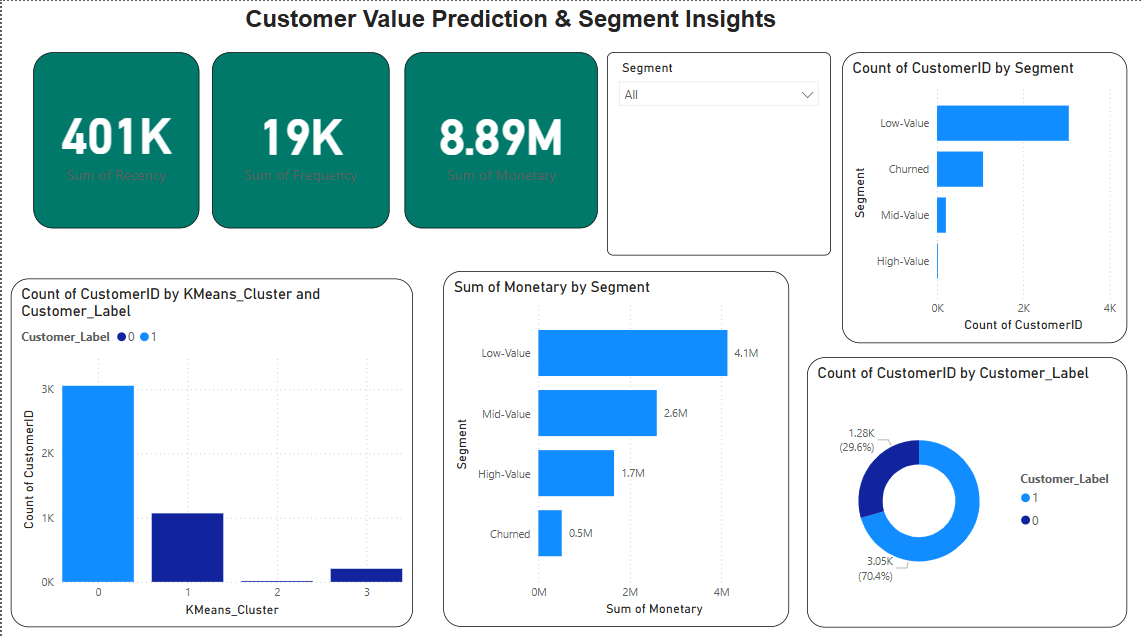

The dashboard page shown, as its layout file describes it:
{"tool":"powerbi","page":{"name":"sgementation and prediction","canvas":[1280,720],"ordinal":1},"visuals":[{"type":"slicer","fields":{"Values":["customer_segmentation_powerbi (2).Segment"]},"box":[679.2,57.6,251.1,227.8],"z":0},{"type":"card","fields":{"Values":["Sum(customer_segmentation_powerbi (2).Recency)"]},"box":[35.7,57.6,186.6,197.6],"z":1000},{"type":"card","fields":{"Values":["Sum(customer_segmentation_powerbi (2).Frequency)"]},"box":[236,57.6,199,197.6],"z":2000},{"type":"card","fields":{"Values":["Sum(customer_segmentation_powerbi (2).Monetary)"]},"box":[451.5,57.6,216.8,197.6],"z":3000},{"type":"donutChart","fields":{"Category":["customer_segmentation_powerbi (2).Customer_Label"],"Y":["CountNonNull(customer_segmentation_powerbi (2).CustomerID)"]},"box":[902.9,399.3,359.5,303.3],"z":4000},{"type":"clusteredBarChart","fields":{"Category":["customer_segmentation_powerbi (2).Segment"],"Y":["CountNonNull(customer_segmentation_powerbi (2).CustomerID)"]},"box":[942.7,57.6,319.7,326.6],"z":5000},{"type":"clusteredBarChart","fields":{"Category":["customer_segmentation_powerbi (2).Segment"],"Y":["Sum(customer_segmentation_powerbi (2).Monetary)"]},"box":[495.4,303.3,388.3,399.3],"z":6000},{"type":"columnChart","fields":{"Category":["customer_segmentation_powerbi (2).KMeans_Cluster"],"Series":["customer_segmentation_powerbi (2).Customer_Label"],"Y":["CountNonNull(customer_segmentation_powerbi (2).CustomerID)"]},"box":[9.6,311.5,451.5,391.1],"z":7000},{"type":"textbox","box":[267.6,0,742.4,43.9],"z":9000}]}

Visuals, with their boxes in screenshot pixels (x1, y1, x2, y2), scaled from the page's 1280x720 canvas onto the 1143x637 screenshot:
slicer - customer_segmentation_powerbi (2).Segment: BBox(607, 51, 831, 252)
card - Sum(customer_segmentation_powerbi (2).Recency): BBox(32, 51, 199, 226)
card - Sum(customer_segmentation_powerbi (2).Frequency): BBox(211, 51, 388, 226)
card - Sum(customer_segmentation_powerbi (2).Monetary): BBox(403, 51, 597, 226)
donutChart - customer_segmentation_powerbi (2).Customer_Label x CountNonNull(customer_segmentation_powerbi (2).CustomerID): BBox(806, 353, 1127, 622)
clusteredBarChart - customer_segmentation_powerbi (2).Segment x CountNonNull(customer_segmentation_powerbi (2).CustomerID): BBox(842, 51, 1127, 340)
clusteredBarChart - customer_segmentation_powerbi (2).Segment x Sum(customer_segmentation_powerbi (2).Monetary): BBox(442, 268, 789, 622)
columnChart - customer_segmentation_powerbi (2).KMeans_Cluster x customer_segmentation_powerbi (2).Customer_Label: BBox(9, 276, 412, 622)
textbox: BBox(239, 0, 902, 39)
